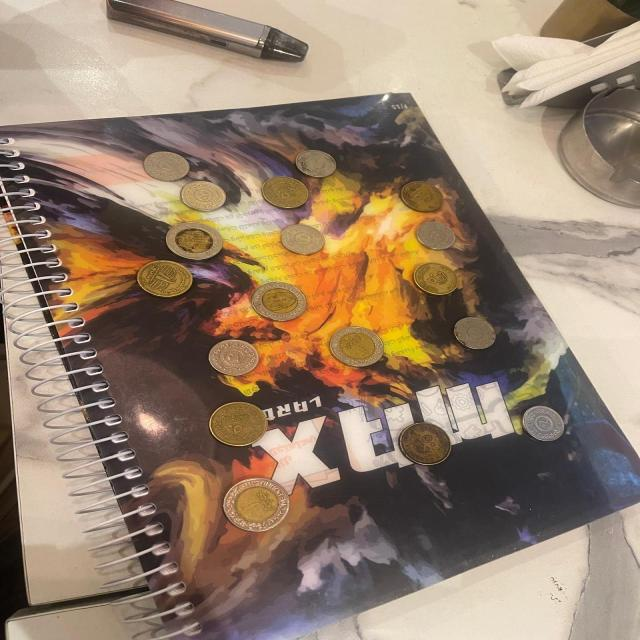Half Pound: (135, 258, 207, 305)
One Pound: (162, 217, 230, 263), (252, 280, 306, 323)
quarter pound: (519, 405, 574, 447), (141, 150, 196, 183)
